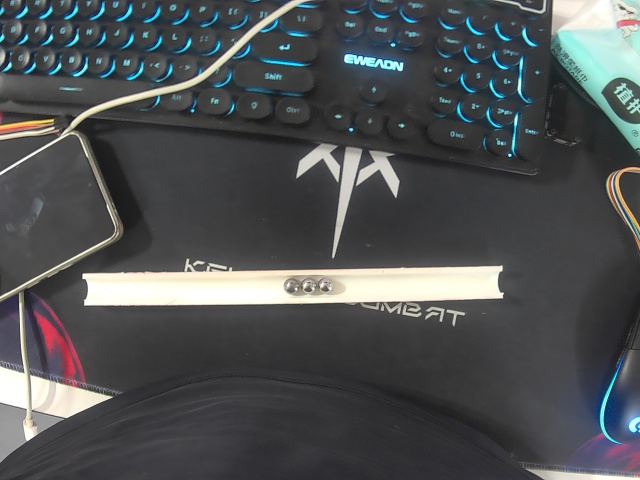steelball: (283, 276, 300, 295), (300, 277, 317, 295), (318, 277, 333, 294)
